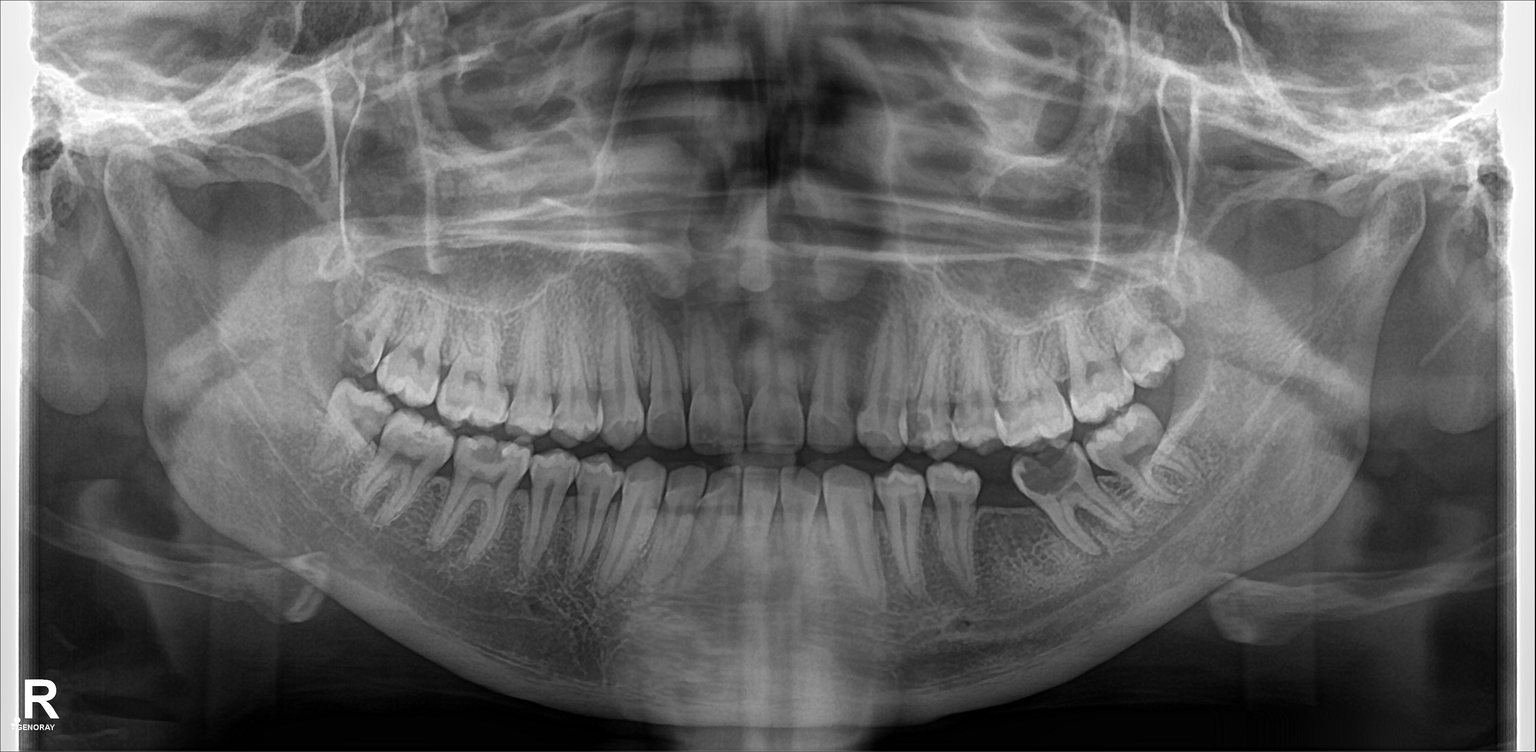Dental Caries: (1017, 452, 1080, 492), (333, 324, 377, 377), (462, 441, 514, 484), (894, 406, 936, 442)
Impacted Third Molar: (328, 382, 383, 492)
Missing Tooth: (983, 471, 1019, 578)
